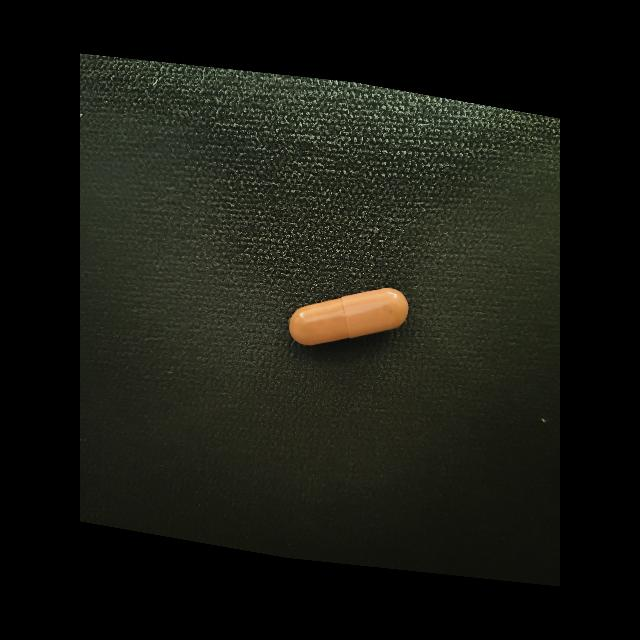Intact Capsule: (289, 288, 409, 345)
